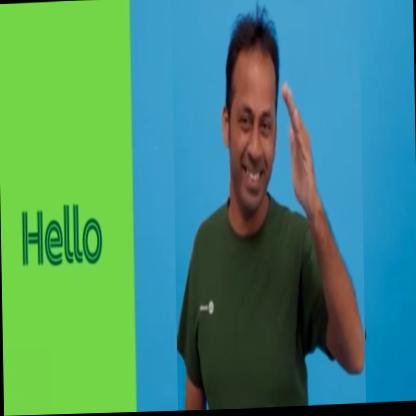Hello: (170, 0, 365, 412)
